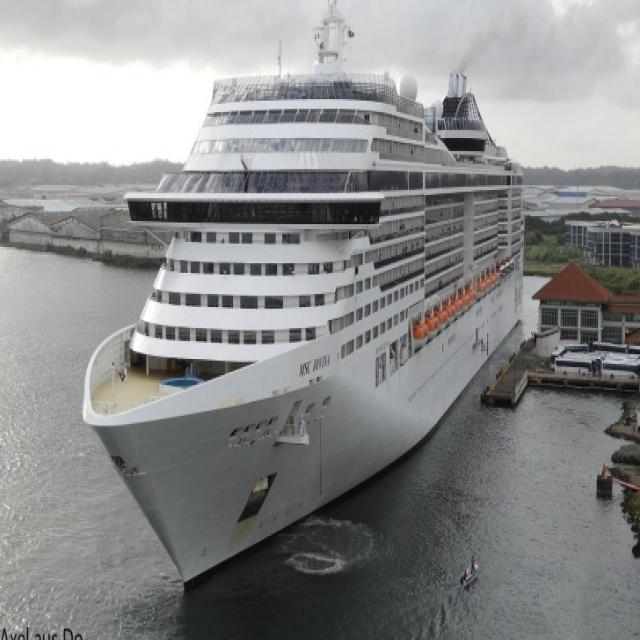cruises: (79, 9, 531, 597)
